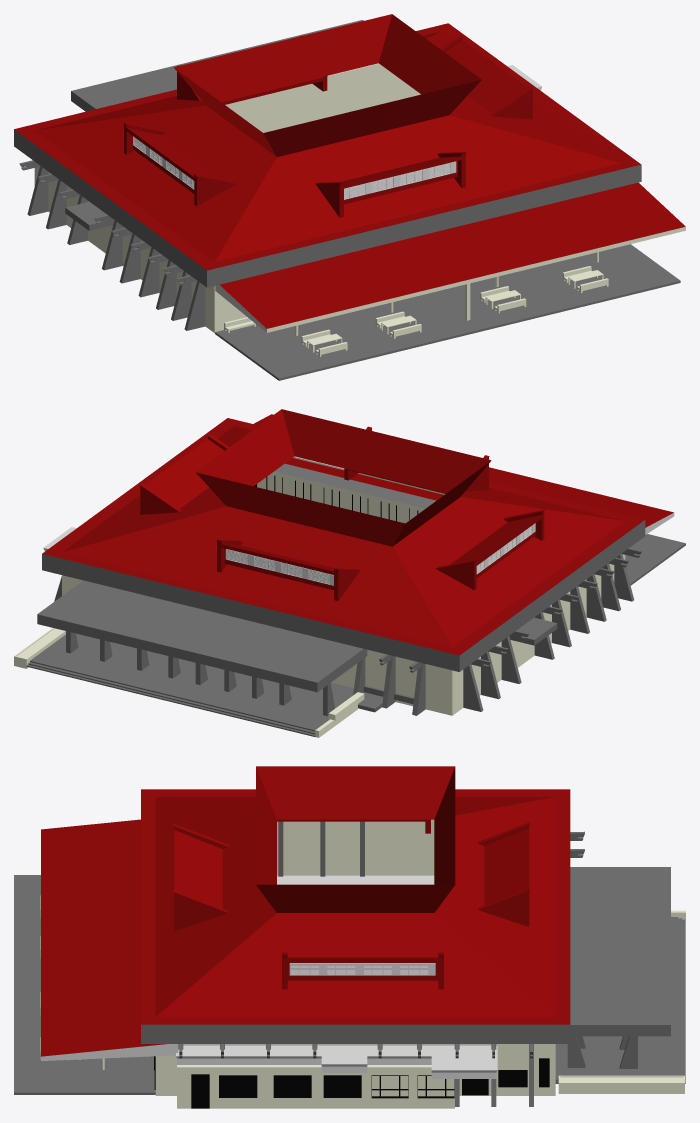
Rendered from GMH.fbx.
3 views of the same model, one above another, from view 1: azimuth 30°, elevation 25°; view 2: azimuth 150°, elevation 25°; view 3: azimuth 270°, elevation 25° (orthographic). The views are drawn at different scales.
Parts seen in each view (by area): view 1: Cube, Cube.029, Cube.060, Right Side Entrance, Cube.056, Cube.053, Cube.055, Cube.058, Cube.028, Cube.021, Cube.024, Cube.020 (+10 smaller); view 2: Cube, Right Side Entrance, Cube.029, Cube.060, Cube.056, Cube.058, Cube.059, Cube.020, Cube.040, Cube.022, Cube.016, Cube.026 (+10 smaller); view 3: Cube, Cube.029, Right Side Entrance, Cube.045, Cube.039, Cube.053, Cube.058, Cube.040, Cube.060, Cube.061, Cube.046, Cube.047 (+4 smaller).
Part boxes in pixels (x1,y1,x2,y2): Cube: (14, 14, 641, 333); Cube.029: (215, 182, 685, 380); Cube.060: (440, 35, 532, 119); Right Side Entrance: (71, 20, 363, 111); Cube.056: (124, 122, 236, 205); Cube.053: (315, 152, 465, 217); Cube.055: (344, 161, 456, 199); Cube.058: (177, 35, 327, 104); Cube.028: (176, 275, 205, 330); Cube.021: (38, 173, 66, 229); Cube.024: (112, 228, 140, 283); Cube.020: (19, 160, 48, 215); Cube: (42, 409, 645, 715); Right Side Entrance: (26, 580, 369, 736); Cube.029: (253, 414, 685, 585); Cube.060: (140, 434, 229, 514); Cube.056: (436, 510, 544, 590); Cube.058: (217, 540, 359, 600); Cube.059: (225, 549, 333, 585); Cube.020: (463, 658, 490, 711); Cube.040: (14, 628, 65, 668); Cube.022: (501, 630, 528, 683); Cube.016: (315, 692, 364, 737); Cube.026: (586, 568, 614, 621); Cube: (141, 766, 570, 1095); Cube.029: (14, 819, 178, 1094); Right Side Entrance: (555, 867, 685, 1083); Cube.045: (177, 1065, 454, 1108); Cube.039: (176, 1045, 497, 1078); Cube.053: (173, 824, 228, 931); Cube.058: (478, 822, 529, 926); Cube.040: (558, 1075, 684, 1093); Cube.060: (282, 952, 443, 989); Cube.061: (289, 963, 435, 975); Cube.046: (323, 1075, 361, 1097); Cube.047: (273, 1075, 311, 1097).
Size of the model in its own units: 17194 by 5028 by 18792.
